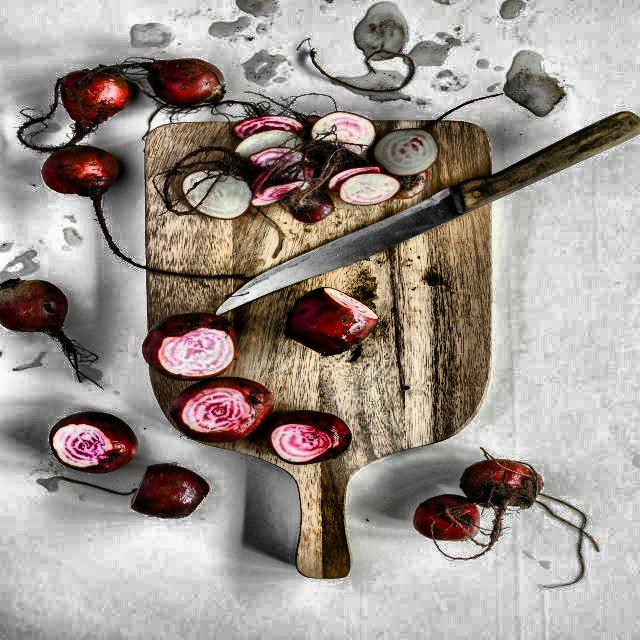knife: (207, 104, 640, 320)
